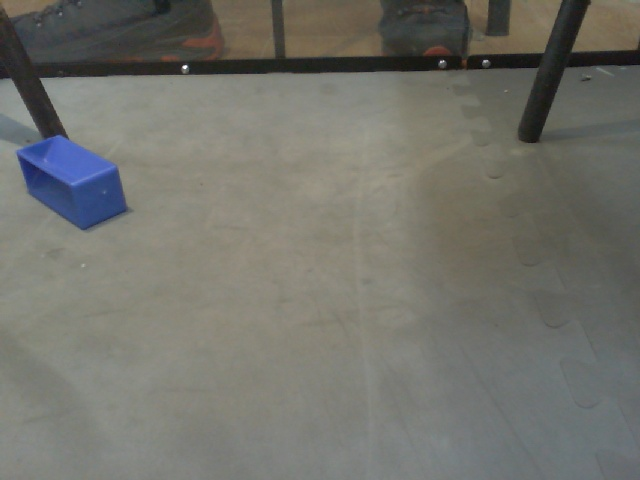BlueSample: (17, 135, 132, 233)
